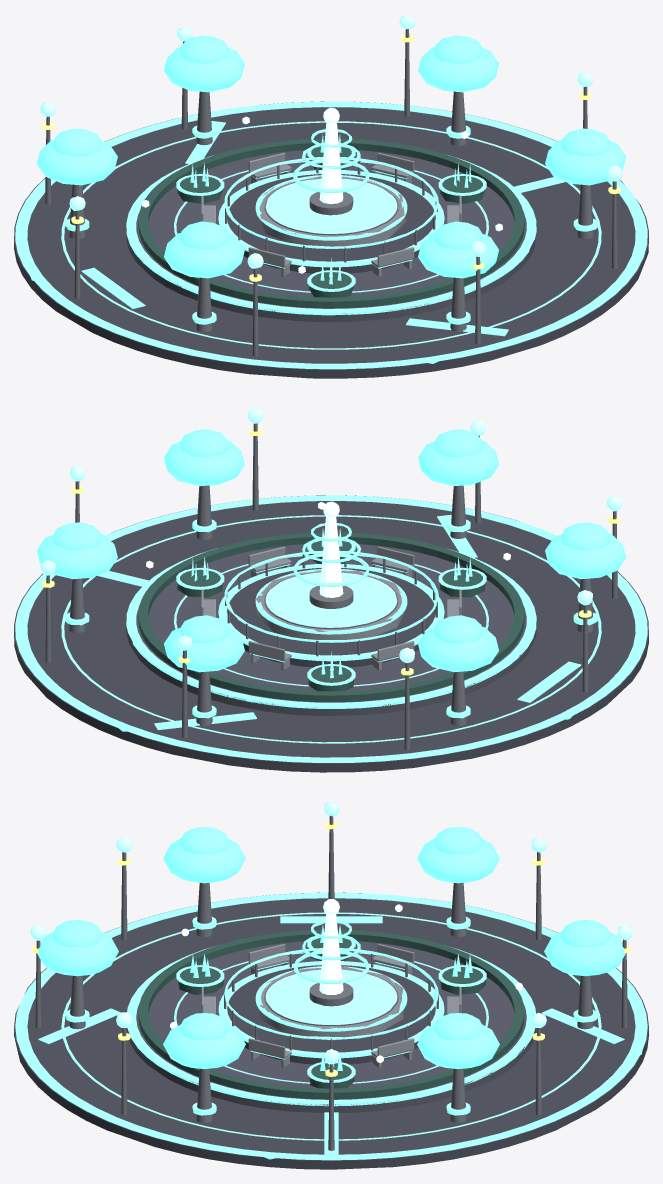
Rendered from park.glb.
3 views of the same model, one above another, from view 1: azimuth 30°, elevation 25°; view 2: azimuth 150°, elevation 25°; view 3: azimuth 270°, elevation 25° (orthographic).
Visible parts, largest first — view 1: Plaza_Base, Tree_Canopy_0, Plaza_BaseRim, Plaza_Tier1, Planter_0, Fountain_Pedestal, Plaza_Tier2Rim, Fountain_Basin, Fountain_Water, Fountain_Core, Lamp_Orb_0, Lamp_Ring_0; view 2: Plaza_Base, Tree_Canopy_0, Plaza_BaseRim, Plaza_Tier1, Planter_0, Fountain_Pedestal, Plaza_Tier2Rim, Fountain_Basin, Fountain_Water, Lamp_Orb_0, Fountain_Core, Lamp_Ring_0; view 3: Plaza_Base, Tree_Canopy_0, Plaza_BaseRim, Plaza_Tier1, Planter_0, Fountain_Pedestal, Plaza_Tier2Rim, Fountain_Basin, Fountain_Water, Fountain_Core, Lamp_Orb_0, Lamp_Ring_0.
Boxes of the visible parts, x1=… form: Plaza_Base: x1=14, y1=101, x2=648, y2=378; Tree_Canopy_0: x1=37, y1=35, x2=625, y2=284; Plaza_BaseRim: x1=15, y1=101, x2=647, y2=369; Plaza_Tier1: x1=126, y1=150, x2=535, y2=322; Planter_0: x1=138, y1=138, x2=524, y2=308; Fountain_Pedestal: x1=45, y1=29, x2=617, y2=356; Plaza_Tier2Rim: x1=61, y1=121, x2=601, y2=349; Fountain_Basin: x1=201, y1=152, x2=461, y2=276; Fountain_Water: x1=265, y1=178, x2=397, y2=233; Fountain_Core: x1=141, y1=107, x2=502, y2=273; Lamp_Orb_0: x1=40, y1=14, x2=622, y2=268; Lamp_Ring_0: x1=42, y1=34, x2=620, y2=281; Plaza_Base: x1=14, y1=495, x2=648, y2=772; Tree_Canopy_0: x1=36, y1=429, x2=626, y2=678; Plaza_BaseRim: x1=15, y1=495, x2=647, y2=762; Plaza_Tier1: x1=126, y1=544, x2=536, y2=715; Planter_0: x1=138, y1=532, x2=524, y2=702; Fountain_Pedestal: x1=45, y1=423, x2=617, y2=750; Plaza_Tier2Rim: x1=61, y1=515, x2=601, y2=743; Fountain_Basin: x1=201, y1=546, x2=461, y2=670; Fountain_Water: x1=265, y1=572, x2=397, y2=627; Lamp_Orb_0: x1=40, y1=407, x2=621, y2=663; Fountain_Core: x1=146, y1=501, x2=510, y2=597; Lamp_Ring_0: x1=42, y1=428, x2=620, y2=675; Plaza_Base: x1=14, y1=892, x2=648, y2=1169; Tree_Canopy_0: x1=37, y1=827, x2=625, y2=1070; Plaza_BaseRim: x1=15, y1=892, x2=647, y2=1160; Plaza_Tier1: x1=126, y1=941, x2=536, y2=1113; Planter_0: x1=138, y1=929, x2=524, y2=1099; Fountain_Pedestal: x1=35, y1=816, x2=627, y2=1150; Plaza_Tier2Rim: x1=61, y1=912, x2=601, y2=1140; Fountain_Basin: x1=201, y1=944, x2=461, y2=1067; Fountain_Water: x1=265, y1=969, x2=397, y2=1024; Fountain_Core: x1=170, y1=899, x2=522, y2=1062; Lamp_Orb_0: x1=30, y1=801, x2=632, y2=1064; Lamp_Ring_0: x1=32, y1=821, x2=630, y2=1076.
Bounding box in the file's own units: 26 × 6.15 × 26.
